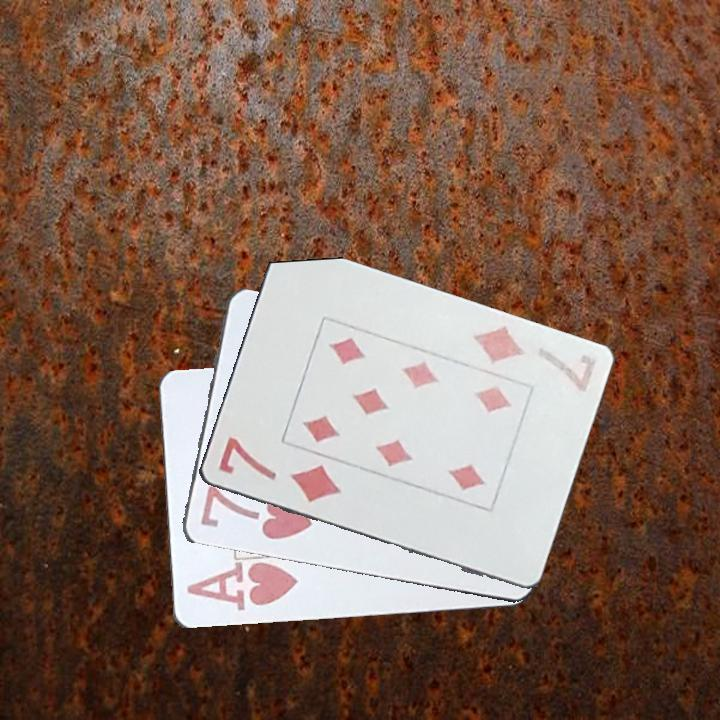7d: (468, 322, 599, 395), (214, 433, 344, 505)
7h: (196, 482, 315, 543)
Ah: (183, 560, 301, 615)
